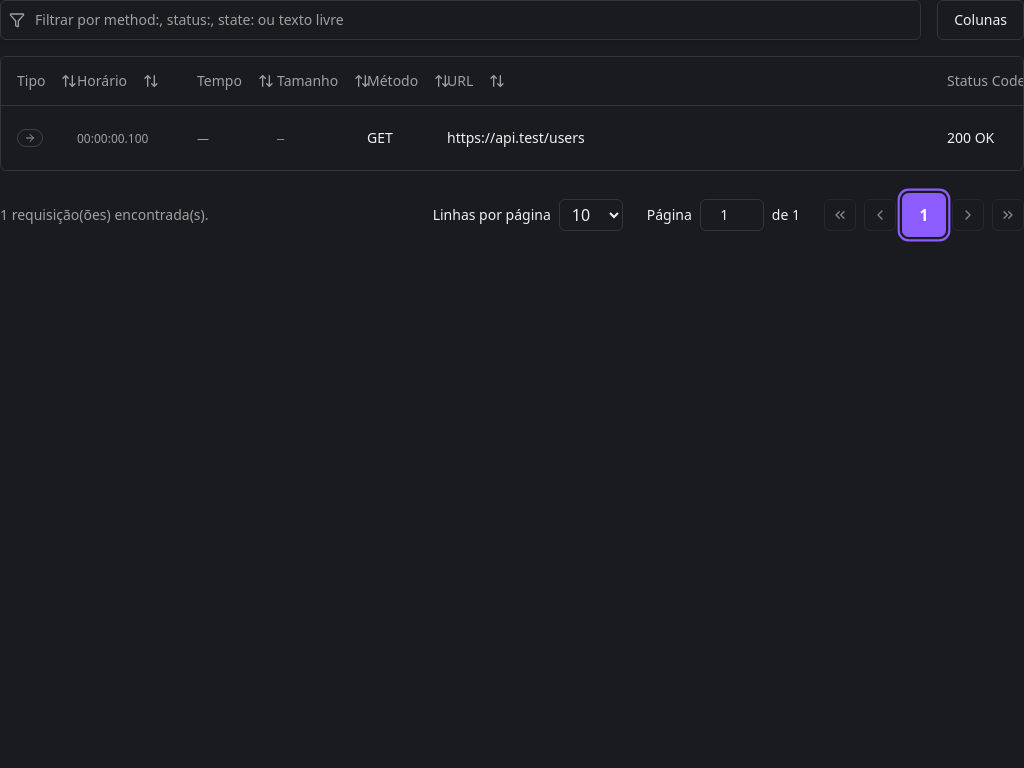
Test: ReplayRequestsTab › drawer mostra reason quando body indisponivel (binario/over-cap)
Click the text "https://api.test/users" at x=516, y=137, box [447,128,585,146]
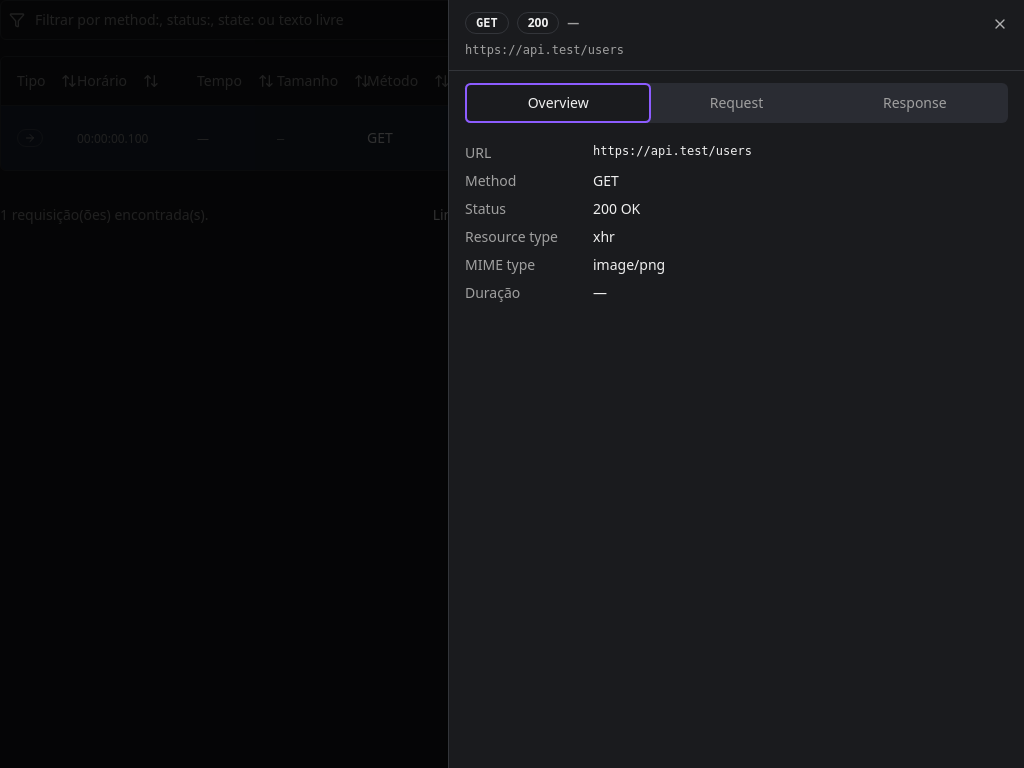
Press the mouse on the tab "Response" at x=915, y=103, box [826,87,1004,119]
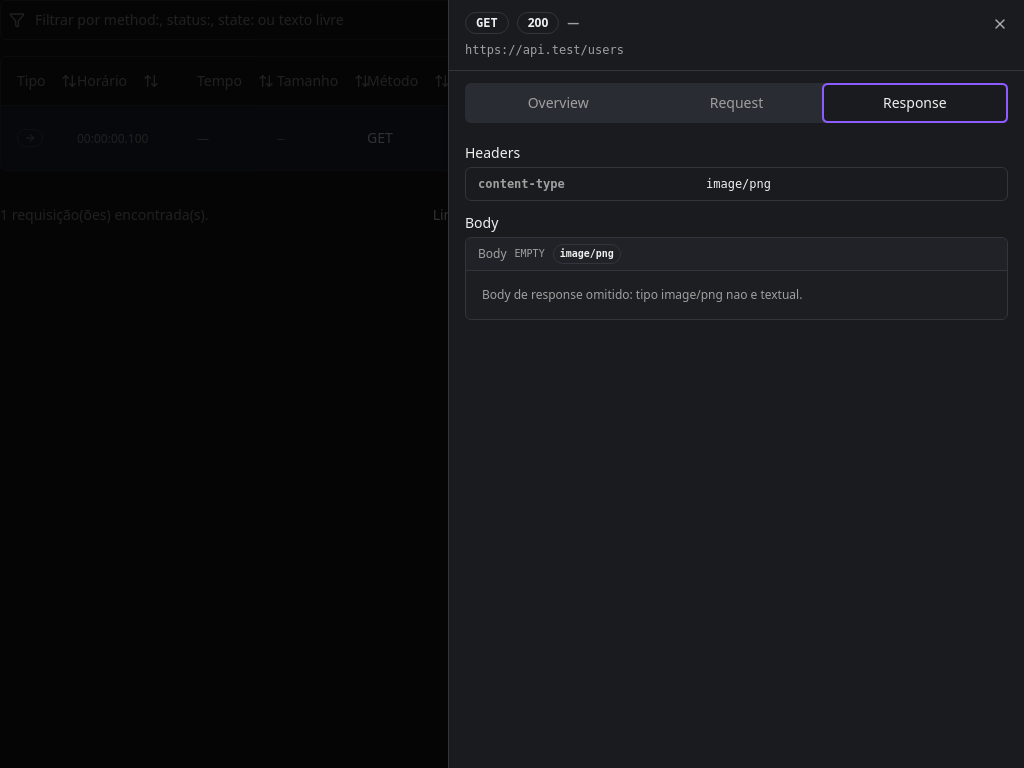
Expected: the text "Body de response omitido: tipo image/png nao e textual." is shown, [482,286,802,303]
